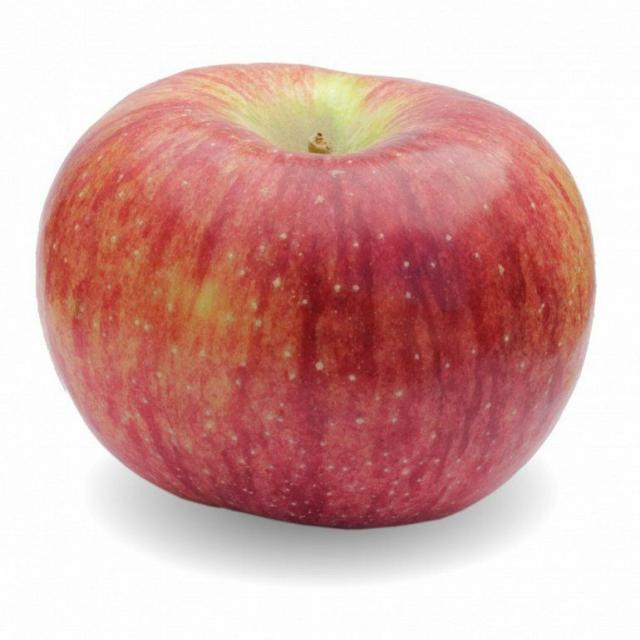Fresh Apple: (63, 70, 597, 517)
